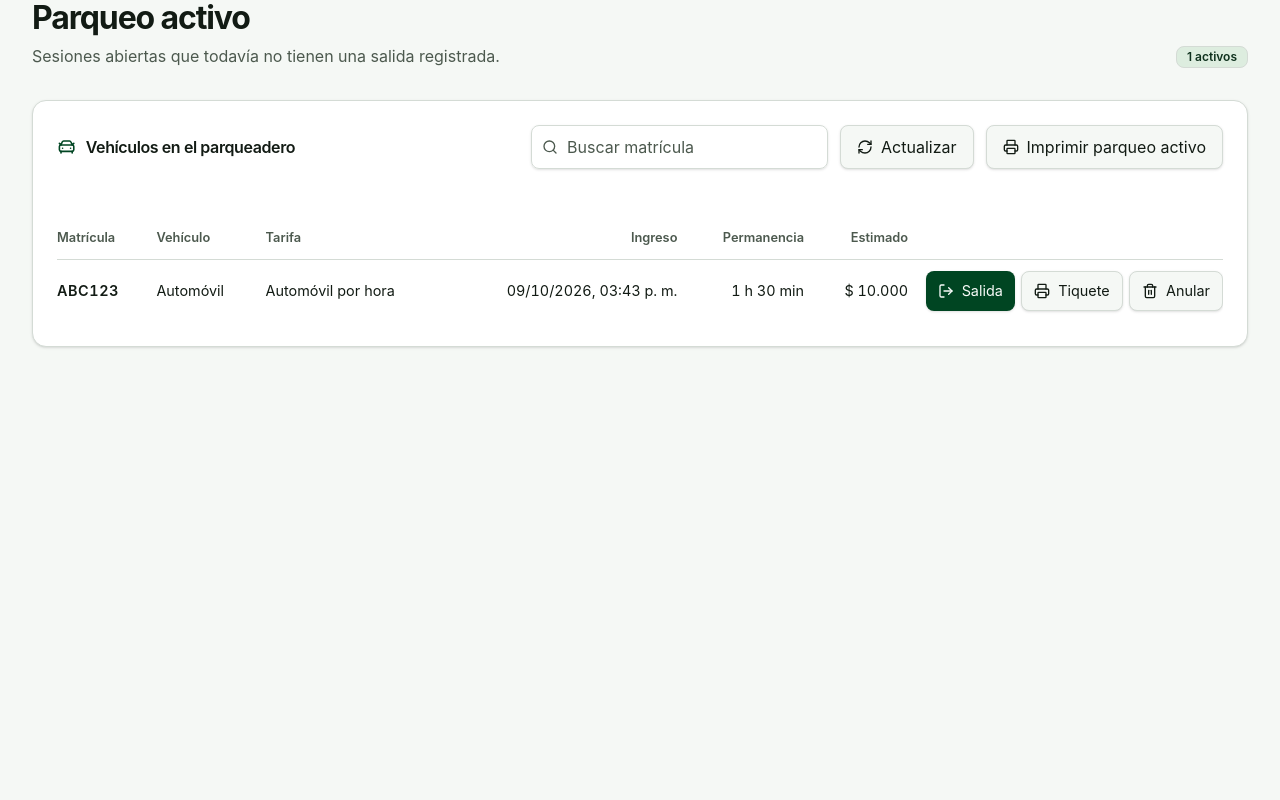
it: Parqueo activo › explica el fallo cuando no se puede cotizar la salida
Check: the table is shown, box [57,217,1223,322]
Click the button "Salida". click: (970, 291)
box: [926,271,1015,311]
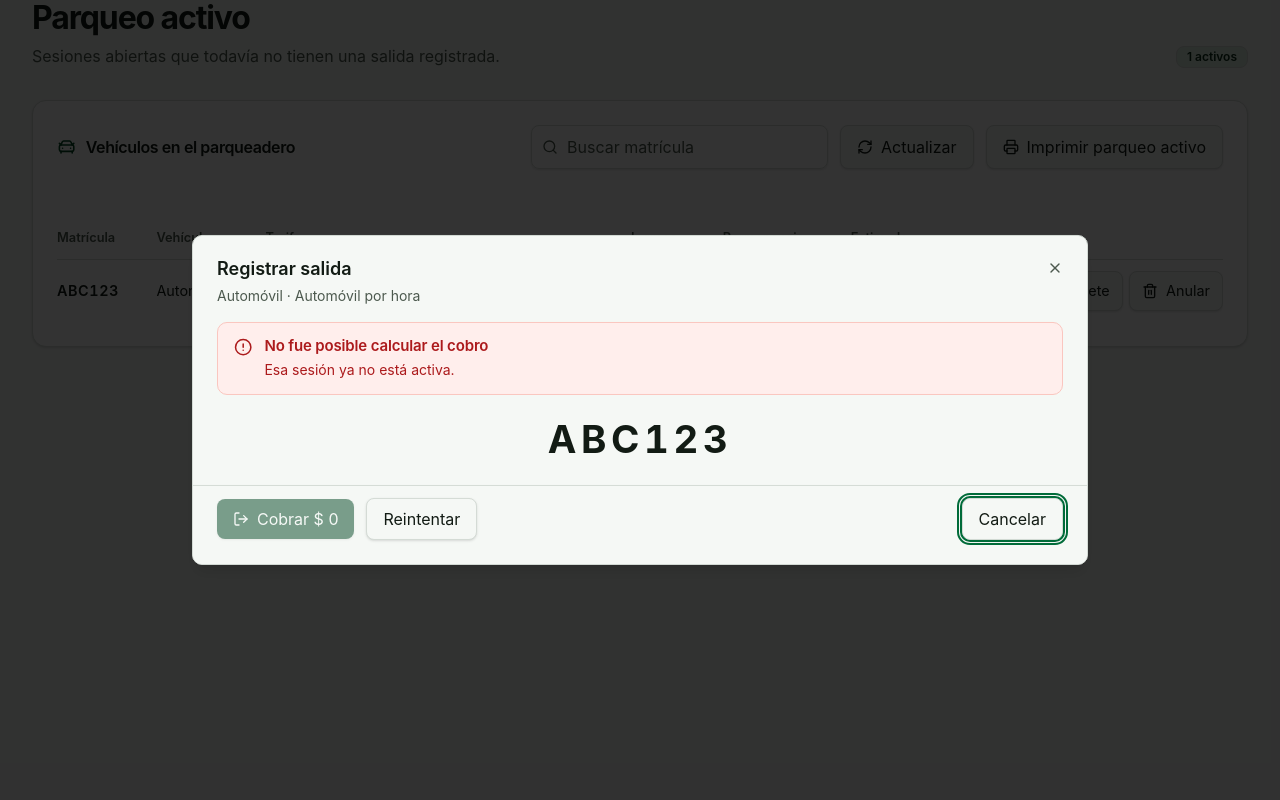
Check: the text "Esa sesión ya no está activa." is shown, box [264,361,455,378]
Click the button "Reintentar". click: (422, 519)
box: [366,498,477,540]
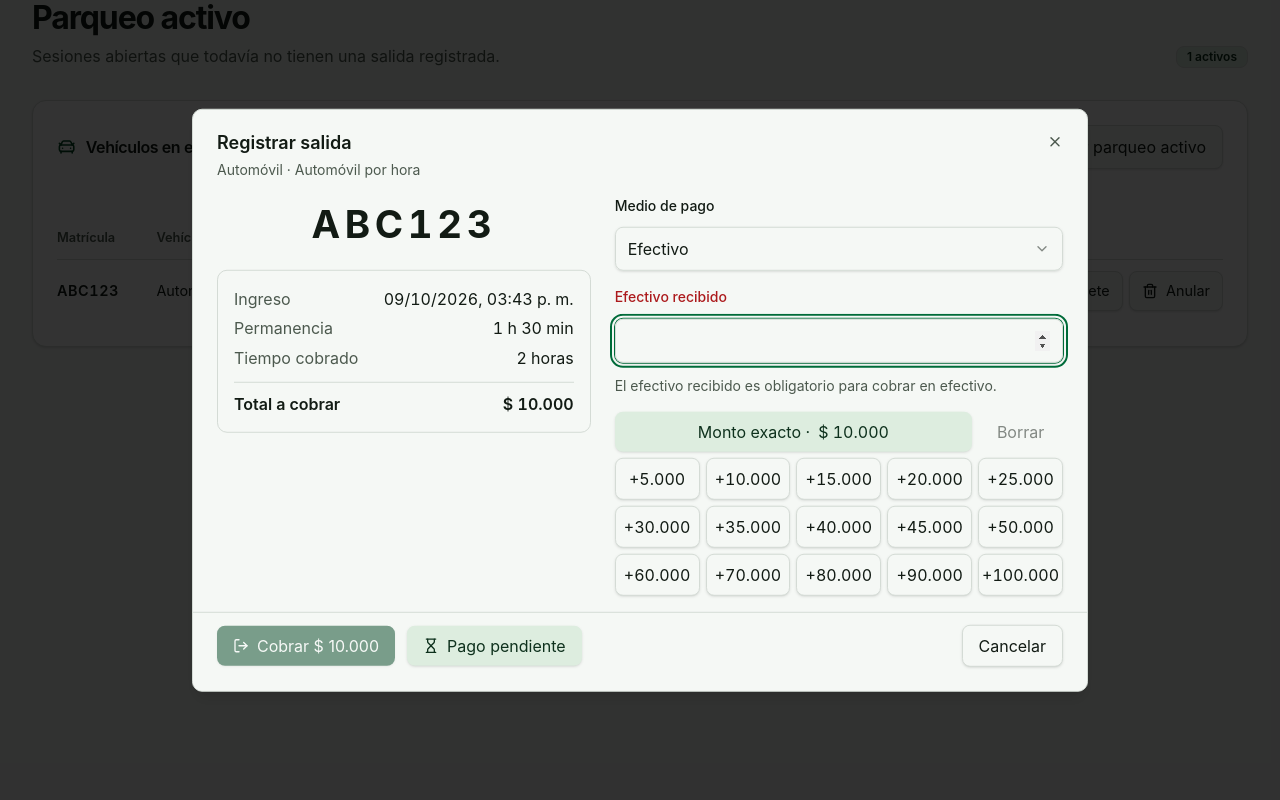
Check: the text "Total a cobrar" is shown, box [234,392,340,416]
